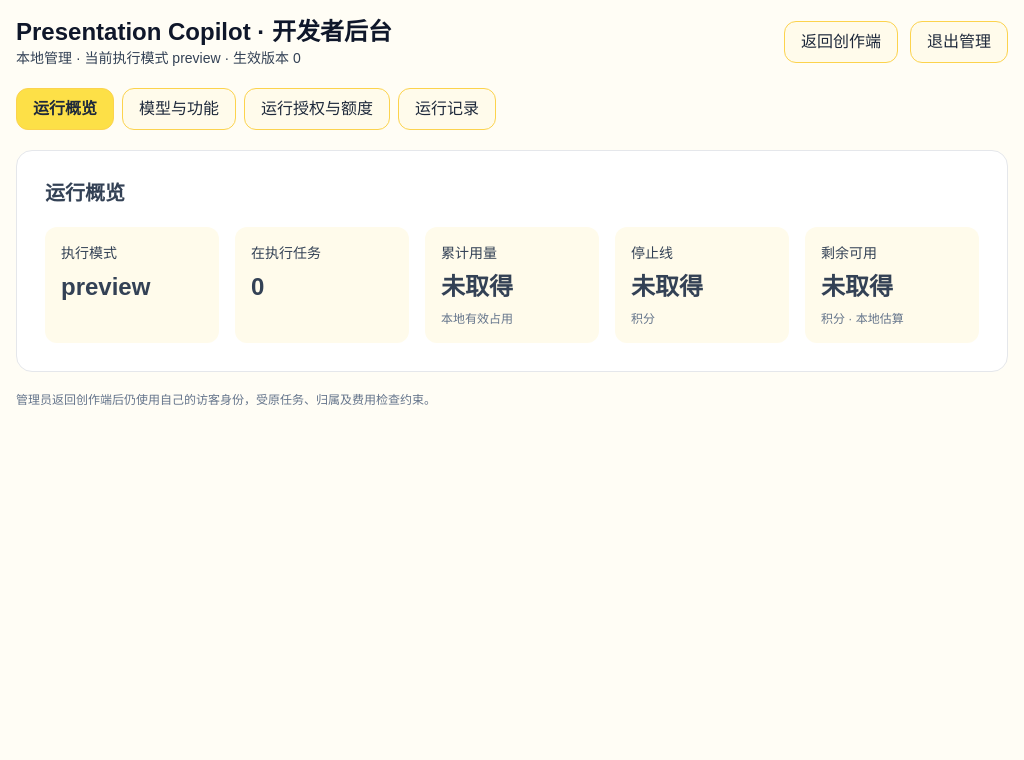
Test: explains unchanged configuration without offering reapply, retaining blockers ["运行授权已到期"]
Expected: the element named "运行概览指标" is shown, [45,227,979,343]
What coordinates should you click on to do the following:
click the button "运行授权与额度"
I would click on:
 (317, 109)
Its box is [244,88,390,130].
(page scrolled)
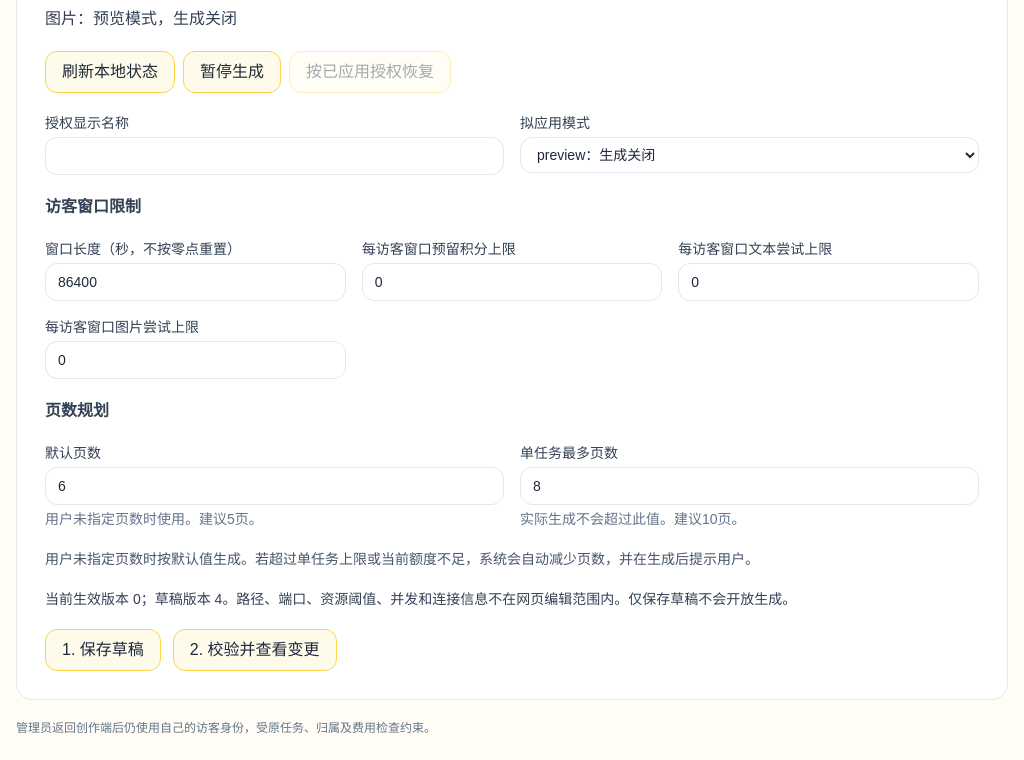
What coordinates should you click on to do the following:
click the button "2. 校验并查看变更"
I would click on:
 (255, 650)
Its box is [173,629,337,671].
(page scrolled)
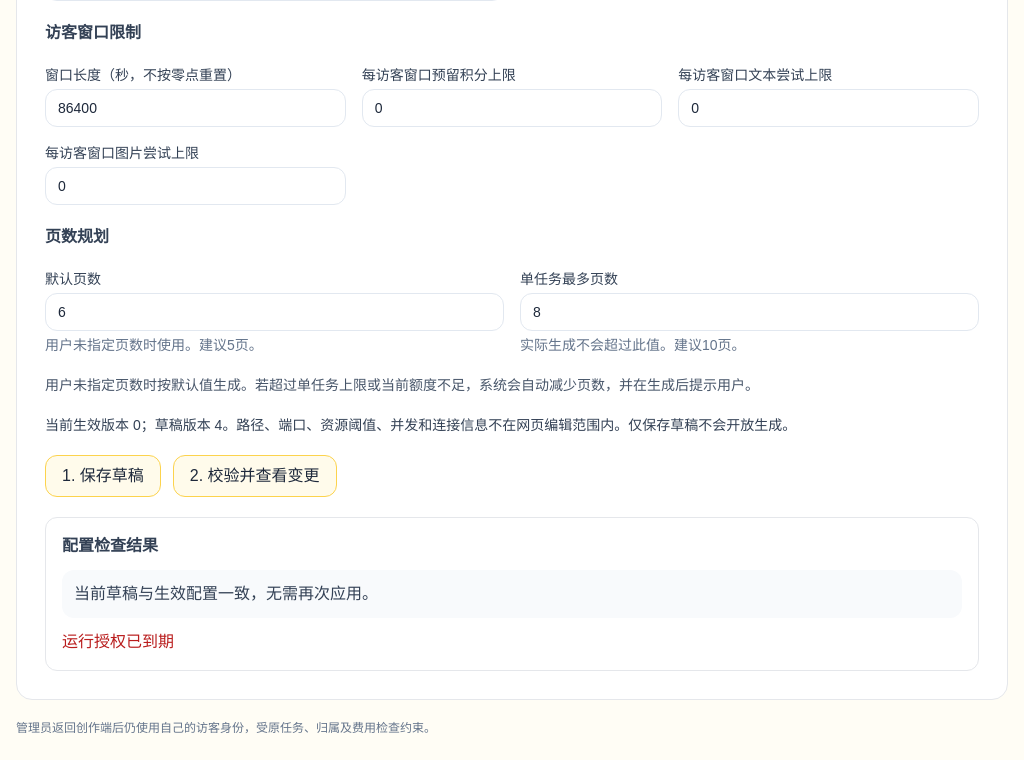
Result: the text "当前草稿与生效配置一致，无需再次应用。" is shown at [62,570,962,618]
Result: the text "运行授权已到期" is shown at [62,633,174,650]
